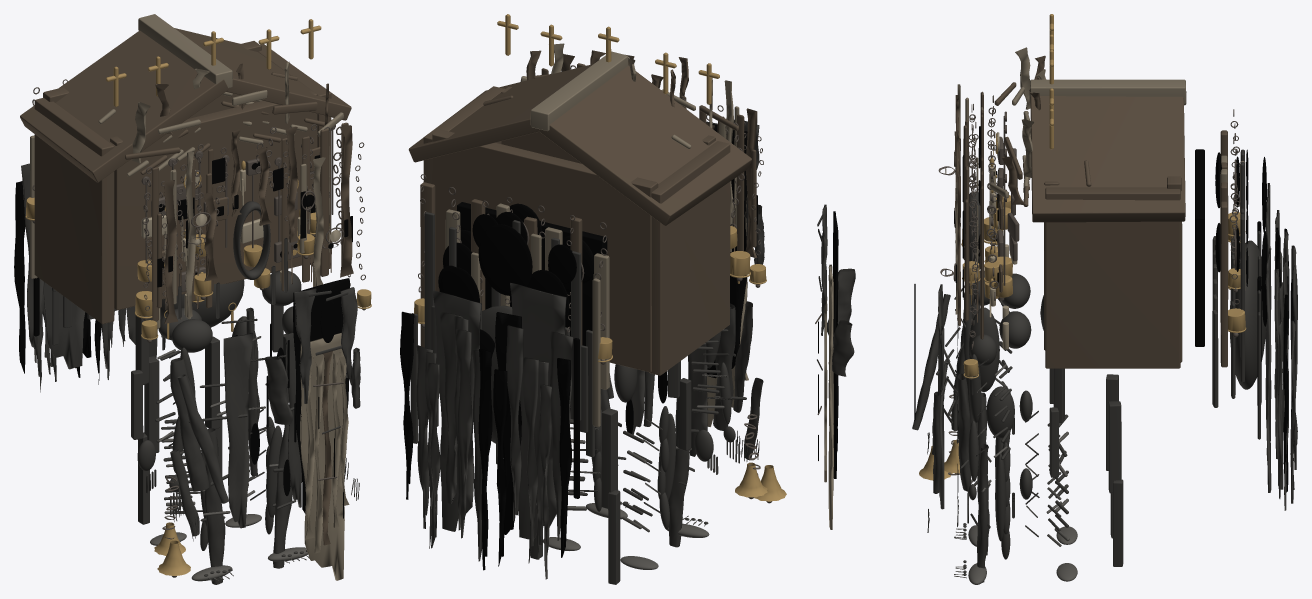
The model's file is penance_carrier_end_goal_v14_human_silhouette_lock.glb.
3 renders of one model, left to right at view 1: azimuth 30°, elevation 25°; view 2: azimuth 150°, elevation 25°; view 3: azimuth 270°, elevation 25°, orthographic. The views are drawn at different scales.
Parts seen in each view (by area): view 1: PC_V4_shrine_front_rotten_wall, PC_V4_shrine_left_side_wall, PC_V4_roof_left_steep_slab, PC_V14_large_rotten_door_mask_primary, PC_V11_left_torn_front_cloak_sheet, PC_V4_roof_right_steep_slab, PC_V14_deep_hood_void_backer, PC_V4_roof_ridge_heavy_rot, PC_V11_5_left_arm_pinched_wrapped_sculpt, PC_V11_back_rotten_skin_sheet_left, PC_V11_6_back_thin_torn_rag_layer_00, PC_V11_7_left_arm_heavy_bowed_sleeve_end_goal (+46 smaller); view 2: PC_V4_shrine_rear_rotten_wall, PC_V4_roof_left_steep_slab, PC_V4_shrine_left_side_wall, PC_V4_roof_right_steep_slab, PC_V11_back_rotten_skin_sheet_left, PC_V11_back_rotten_skin_sheet_right, PC_V11_back_deep_rotted_hole_01, PC_V4_roof_ridge_heavy_rot, PC_V11_6_back_thin_torn_rag_layer_02, PC_V11_7_back_rotten_interior_tongue_02, PC_V4_back_black_rotten_hollow, PC_V11_5_back_layered_rotten_sheet_04 (+52 smaller); view 3: PC_V4_shrine_right_side_wall, PC_V4_roof_right_steep_slab, PC_V4_roof_ridge_heavy_rot, PC_V11_back_swollen_rotten_under_mass, PC_V4_back_black_rotten_hollow, PC_V5_back_rotten_vertical_plank_07, PC_V14_large_rotten_door_mask_primary, PC_V11_5_right_leg_compressed_wrapped_sculpt, PC_V11_5_right_arm_pinched_wrapped_sculpt, PC_V11_back_rotten_skin_sheet_right, PC_V6_right_wrapped_thigh, PC_V11_7_left_arm_heavy_bowed_sleeve_end_goal (+22 smaller).
Boxes of the visible parts, bbox=[...] form: PC_V4_shrine_front_rotten_wall: bbox=[110, 89, 317, 310]; PC_V4_shrine_left_side_wall: bbox=[34, 97, 114, 323]; PC_V4_roof_left_steep_slab: bbox=[20, 30, 228, 182]; PC_V14_large_rotten_door_mask_primary: bbox=[300, 332, 346, 580]; PC_V11_left_torn_front_cloak_sheet: bbox=[223, 332, 253, 528]; PC_V4_roof_right_steep_slab: bbox=[174, 28, 351, 120]; PC_V14_deep_hood_void_backer: bbox=[293, 278, 349, 513]; PC_V4_roof_ridge_heavy_rot: bbox=[138, 14, 232, 87]; PC_V11_5_left_arm_pinched_wrapped_sculpt: bbox=[170, 357, 209, 491]; PC_V11_back_rotten_skin_sheet_left: bbox=[43, 282, 85, 369]; PC_V11_6_back_thin_torn_rag_layer_00: bbox=[14, 181, 25, 373]; PC_V11_7_left_arm_heavy_bowed_sleeve_end_goal: bbox=[177, 374, 229, 503]; PC_V4_shrine_rear_rotten_wall: bbox=[432, 129, 658, 372]; PC_V4_roof_left_steep_slab: bbox=[539, 65, 751, 225]; PC_V4_shrine_left_side_wall: bbox=[648, 141, 730, 375]; PC_V4_roof_right_steep_slab: bbox=[408, 65, 590, 162]; PC_V11_back_rotten_skin_sheet_left: bbox=[510, 283, 566, 539]; PC_V11_back_rotten_skin_sheet_right: bbox=[432, 290, 481, 531]; PC_V11_back_deep_rotted_hole_01: bbox=[478, 224, 532, 295]; PC_V4_roof_ridge_heavy_rot: bbox=[530, 51, 628, 130]; PC_V11_6_back_thin_torn_rag_layer_02: bbox=[506, 325, 523, 521]; PC_V11_7_back_rotten_interior_tongue_02: bbox=[456, 329, 472, 538]; PC_V4_back_black_rotten_hollow: bbox=[457, 202, 607, 345]; PC_V11_5_back_layered_rotten_sheet_04: bbox=[440, 312, 463, 503]; PC_V4_shrine_right_side_wall: bbox=[1045, 187, 1180, 368]; PC_V4_roof_right_steep_slab: bbox=[1030, 96, 1185, 222]; PC_V4_roof_ridge_heavy_rot: bbox=[1030, 79, 1185, 104]; PC_V11_back_swollen_rotten_under_mass: bbox=[1230, 240, 1266, 389]; PC_V4_back_black_rotten_hollow: bbox=[1195, 149, 1204, 346]; PC_V5_back_rotten_vertical_plank_07: bbox=[1220, 201, 1227, 367]; PC_V14_large_rotten_door_mask_primary: bbox=[828, 264, 833, 529]; PC_V11_5_right_leg_compressed_wrapped_sculpt: bbox=[977, 443, 988, 582]; PC_V11_5_right_arm_pinched_wrapped_sculpt: bbox=[957, 373, 971, 491]; PC_V11_back_rotten_skin_sheet_right: bbox=[1266, 248, 1271, 492]; PC_V6_right_wrapped_thigh: bbox=[1108, 401, 1121, 493]; PC_V11_7_left_arm_heavy_bowed_sleeve_end_goal: bbox=[912, 294, 950, 430].
Bounding box in the file's own units: 2.34 × 4.48 × 3.78.
